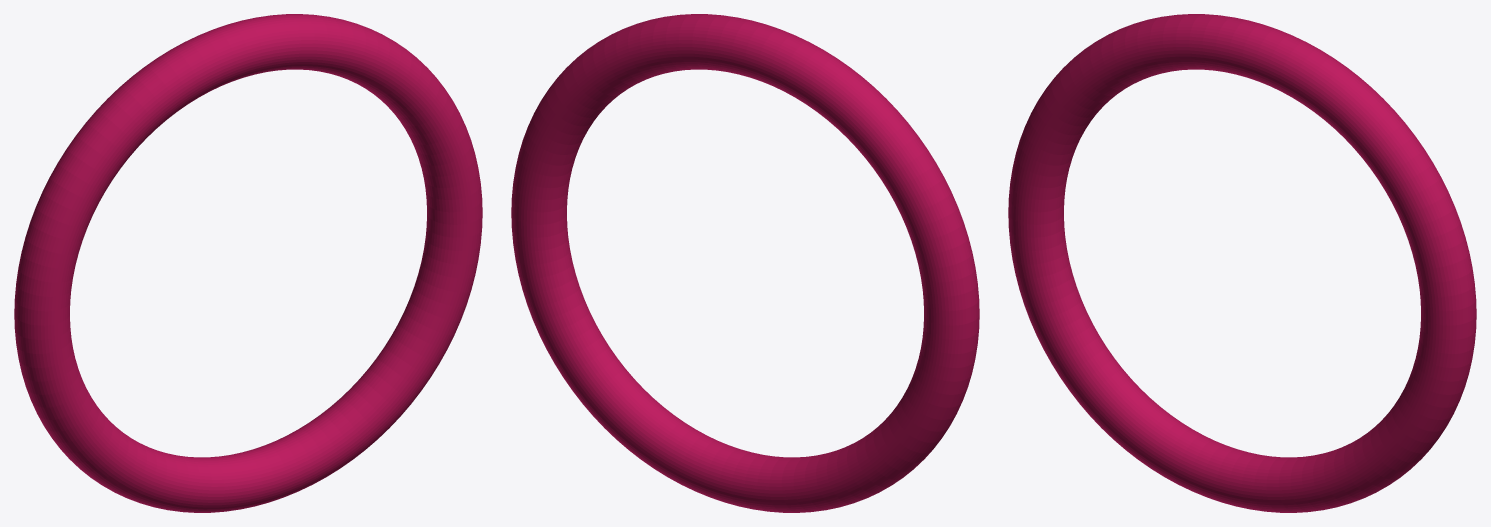
3 renders of one model, left to right at view 1: azimuth 30°, elevation 25°; view 2: azimuth 150°, elevation 25°; view 3: azimuth 330°, elevation 25°, orthographic.
Parts seen in each view (by area): view 1: world; view 2: world; view 3: world.
Boxes of the visible parts, left/top/right/bottom form: world: left=14, top=14, right=482, bottom=512; world: left=511, top=14, right=979, bottom=512; world: left=1008, top=14, right=1476, bottom=512.
Size of the model in its own units: 26.8 by 26.8 by 2.79.
